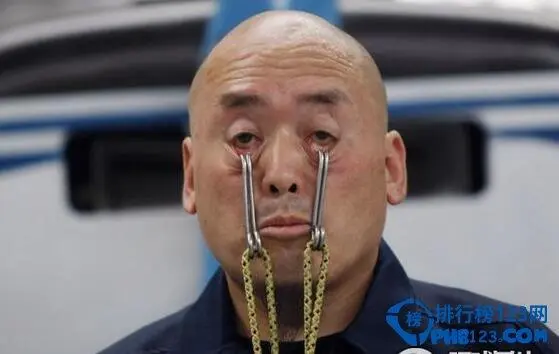withoutmask: (178, 9, 409, 315)
